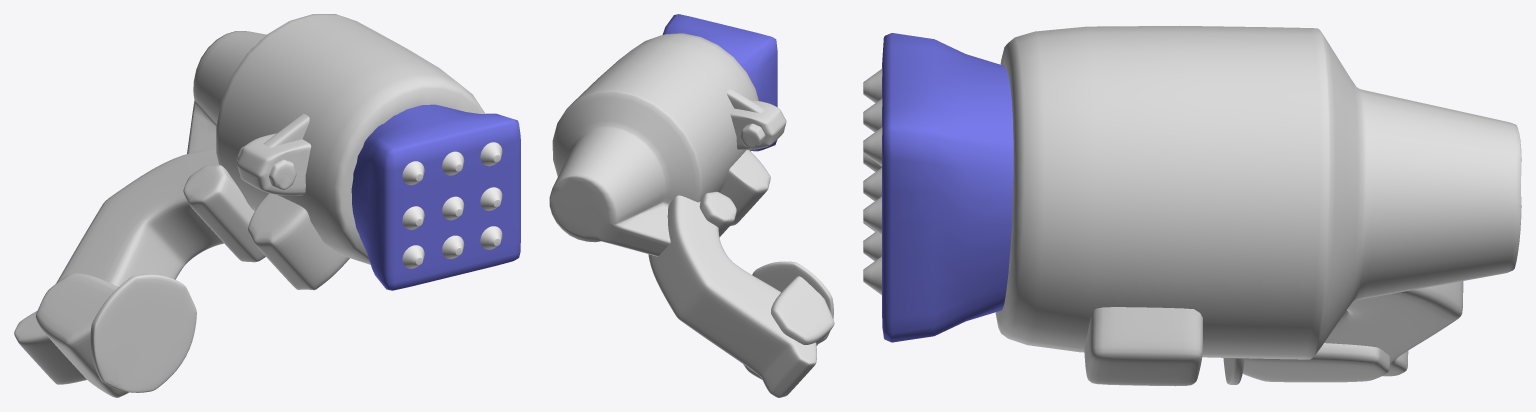
Rendered from Gun.fbx.
3 views of the same model, side by side, from view 1: azimuth 30°, elevation 25°; view 2: azimuth 150°, elevation 25°; view 3: azimuth 270°, elevation 25° (orthographic). The views are drawn at different scales.
Visible parts, largest first — view 1: WarMachine.mo.001, WarMachine.mo.002, Cube; view 2: WarMachine.mo.001, WarMachine.mo.002, Cube; view 3: WarMachine.mo.001, Cube, WarMachine.mo.002.
Boxes of the visible parts, x1,y1,x2,y2 form: WarMachine.mo.001: (183,14,485,290); WarMachine.mo.002: (14,148,223,397); Cube: (351,104,520,290); WarMachine.mo.001: (549,33,786,256); WarMachine.mo.002: (648,195,834,397); Cube: (662,14,777,151); WarMachine.mo.001: (995,25,1521,386); Cube: (863,33,1013,342); WarMachine.mo.002: (1223,281,1463,384).
Size of the model in its own units: 0.319 by 0.271 by 0.3171.
